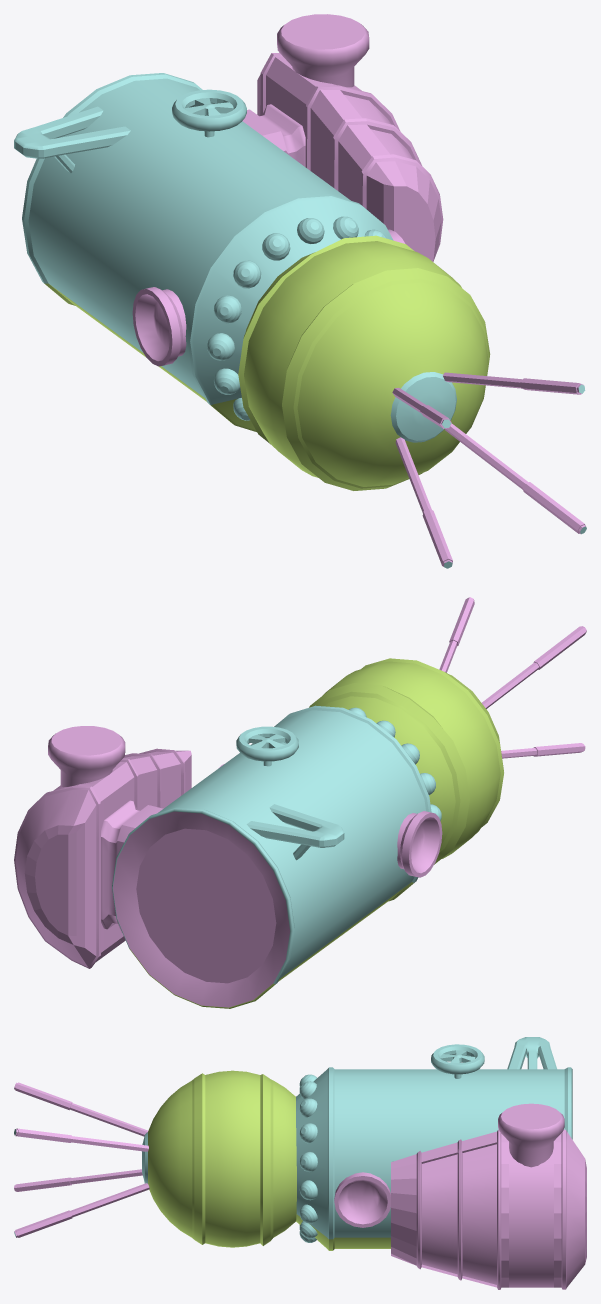
Rendered from S_playerSputnikDelivery4UnityIDtest 1.fbx.
3 renders of one model, top to bottom at view 1: azimuth 30°, elevation 25°; view 2: azimuth 150°, elevation 25°; view 3: azimuth 270°, elevation 25°, orthographic. The views are drawn at different scales.
Parts seen in each view (by area): view 1: pSphere2; view 2: pSphere2; view 3: pSphere2.
Boxes of the visible parts, x1,y1,x2,y2 form: pSphere2: [14, 14, 586, 568]; pSphere2: [14, 597, 586, 1008]; pSphere2: [14, 1037, 586, 1289].
Bounding box in the file's own units: 489 × 335 × 920.
